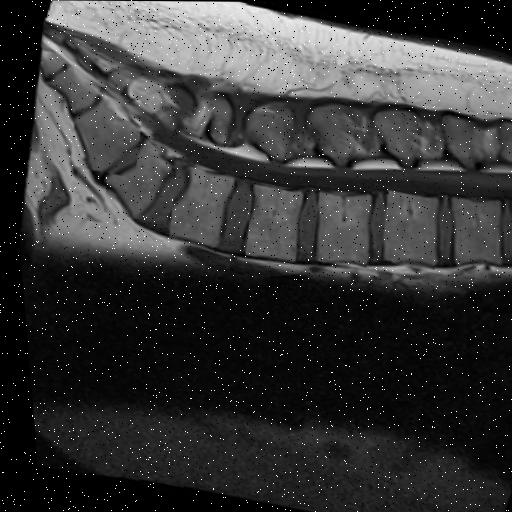L1: (378, 189, 434, 263)
L2: (311, 191, 368, 262)
L3: (241, 184, 299, 261)
L4: (164, 167, 230, 247)
L5: (103, 140, 167, 218)
S1: (71, 99, 137, 172)
